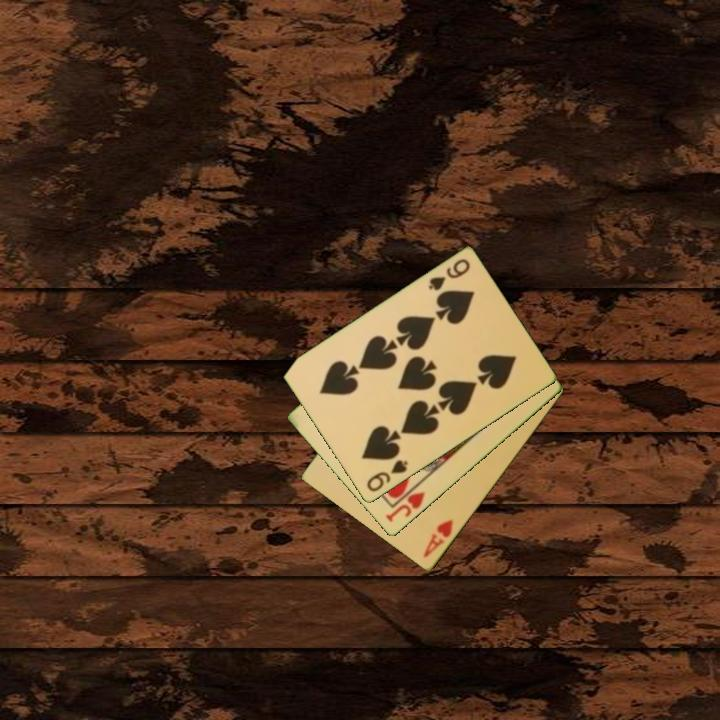9s: (425, 255, 473, 294), (363, 457, 411, 495)
Ah: (420, 516, 456, 561)
Jh: (382, 479, 428, 525)
